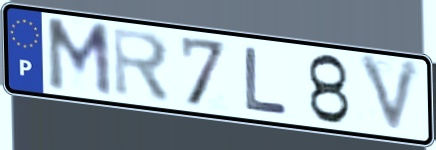7: (179, 33, 230, 110)
8: (306, 52, 352, 125)
L: (241, 44, 291, 116)
M: (43, 16, 115, 101)
R: (110, 25, 173, 106)
V: (355, 53, 425, 139)
